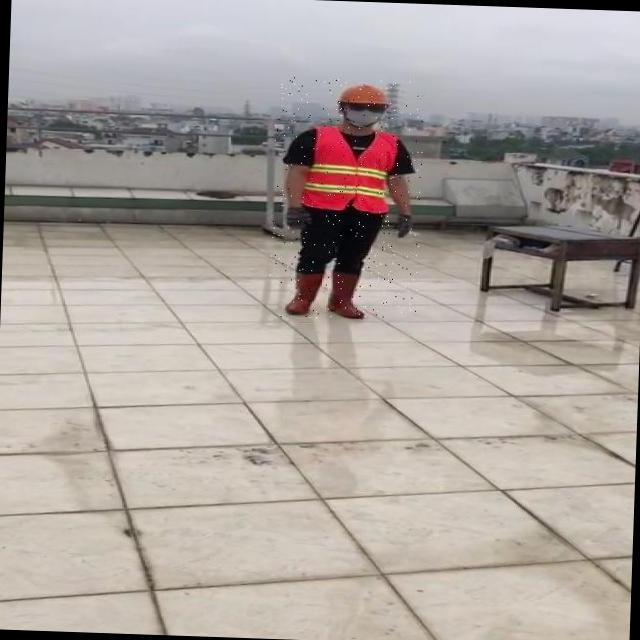boots: (325, 270, 370, 320), (288, 269, 322, 316)
gloves: (285, 202, 313, 230), (392, 211, 414, 239)
helmet: (336, 81, 390, 107)
vest: (306, 126, 394, 216)
